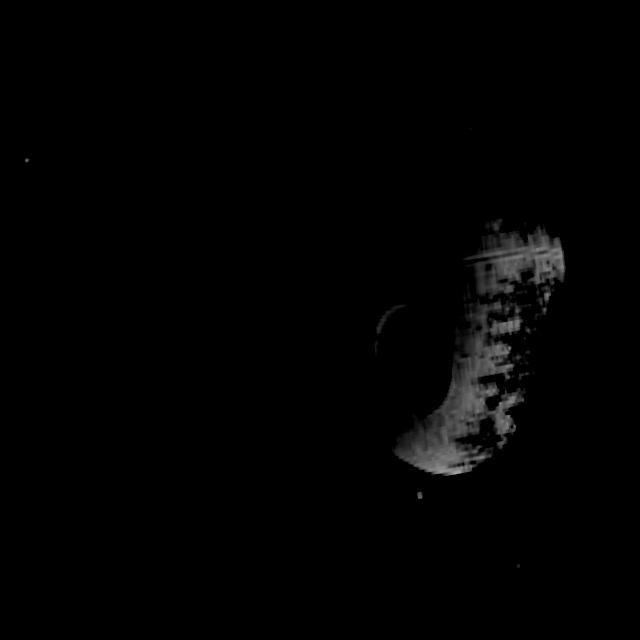death-stars: (320, 84, 571, 475)
